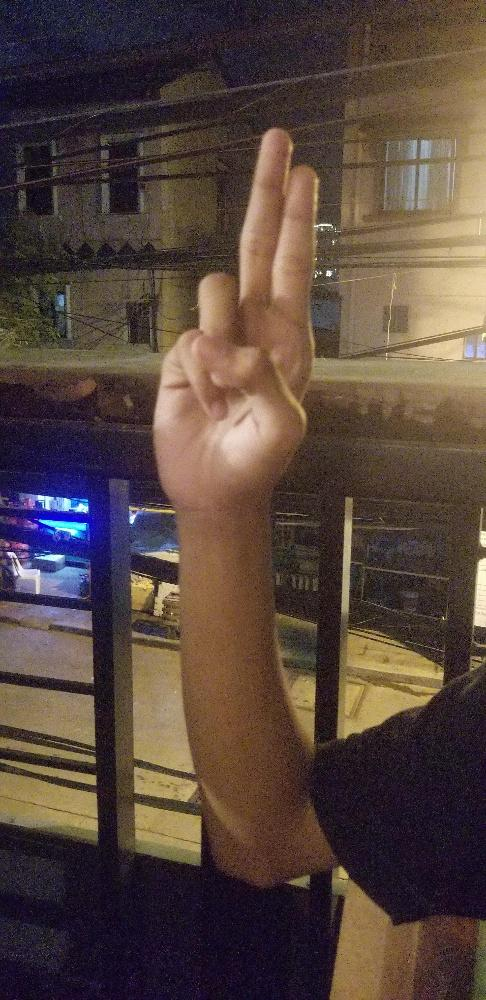u: (150, 123, 321, 506)
